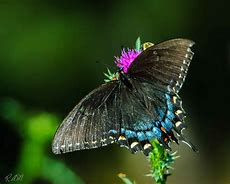insect: (50, 37, 197, 156)
